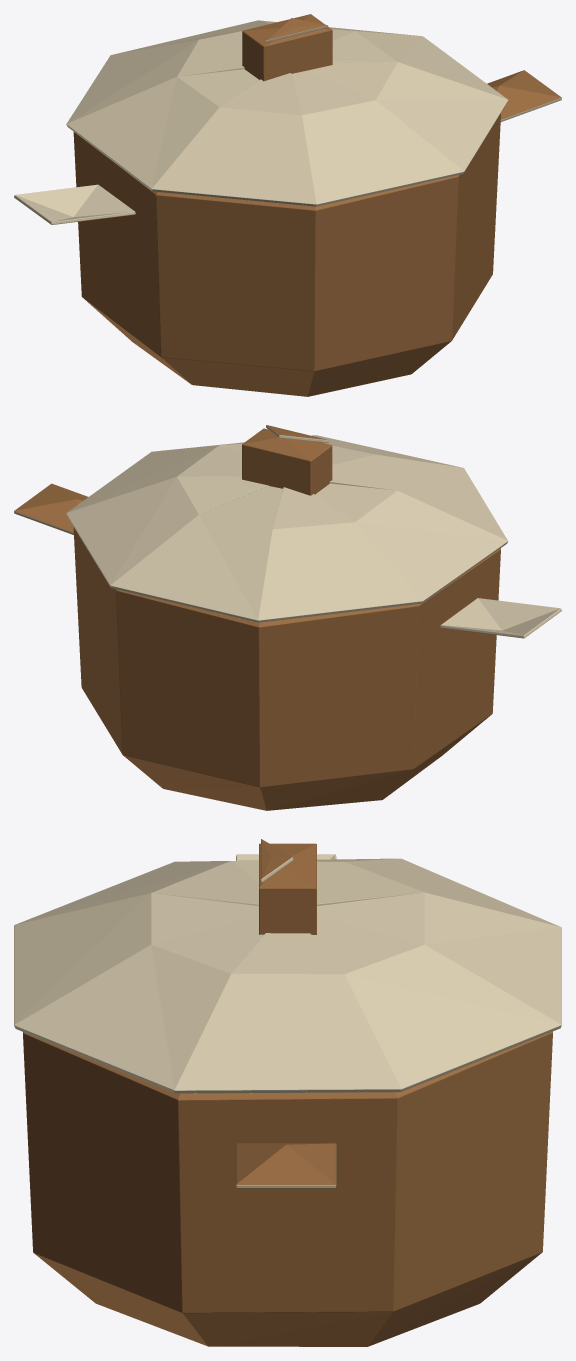
The model's file is achievement-chefs-shelf.glb.
3 renders of one model, top to bottom at view 1: azimuth 30°, elevation 25°; view 2: azimuth 150°, elevation 25°; view 3: azimuth 270°, elevation 25°, orthographic. The views are drawn at different scales.
Visible parts, largest first — view 1: achievement-chefs-shelf; view 2: achievement-chefs-shelf; view 3: achievement-chefs-shelf.
Part boxes in pixels (left/top/right/bottom): achievement-chefs-shelf: left=14, top=14, right=561, bottom=396; achievement-chefs-shelf: left=14, top=425, right=561, bottom=810; achievement-chefs-shelf: left=14, top=839, right=561, bottom=1346.
Size of the model in its own units: 2.12 by 1.24 by 1.48.
